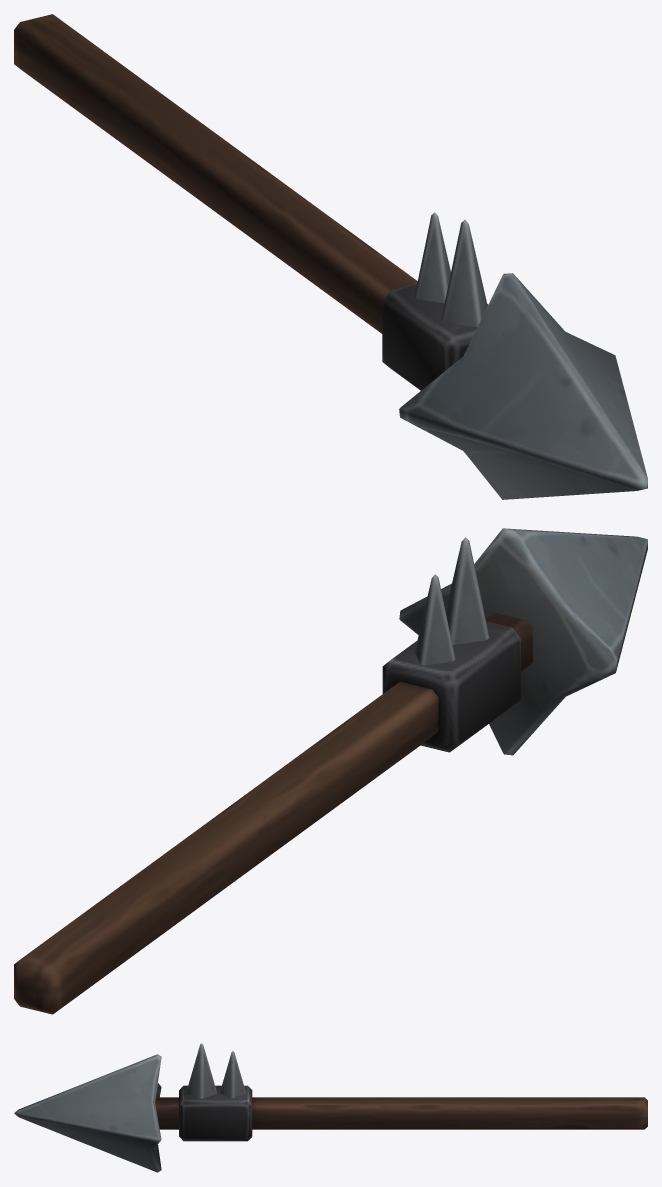
Rendered from SM_TowerDefense_Balista_Bow_Shield.fbx.
3 renders of one model, top to bottom at view 1: azimuth 30°, elevation 25°; view 2: azimuth 150°, elevation 25°; view 3: azimuth 270°, elevation 25°, orthographic. The views are drawn at different scales.
Visible parts, largest first — view 1: SM_TowerDefense_Balista_Bow_Shield; view 2: SM_TowerDefense_Balista_Bow_Shield; view 3: SM_TowerDefense_Balista_Bow_Shield.
Boxes of the visible parts, box(x1,y1,x2,y2) form: SM_TowerDefense_Balista_Bow_Shield: box(14, 14, 647, 499); SM_TowerDefense_Balista_Bow_Shield: box(14, 528, 647, 1014); SM_TowerDefense_Balista_Bow_Shield: box(14, 1043, 647, 1172).
Size of the model in its own units: 114 by 125 by 561.
